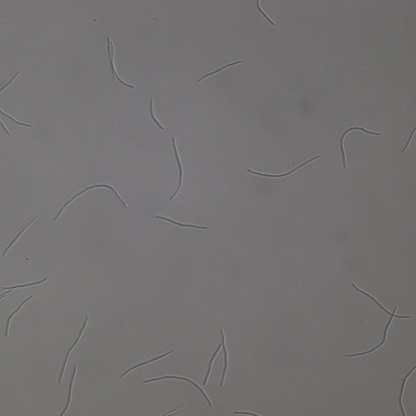Sensitive: (53, 182, 128, 220), (346, 307, 398, 358), (143, 374, 212, 407), (353, 285, 411, 319), (339, 125, 381, 169), (247, 154, 318, 180), (60, 316, 87, 381), (203, 328, 229, 385), (106, 37, 134, 88), (121, 349, 173, 376), (2, 217, 36, 256), (6, 295, 34, 333), (168, 135, 184, 199), (198, 59, 243, 81), (396, 367, 416, 415), (156, 216, 207, 233), (59, 366, 75, 416), (2, 278, 47, 292), (147, 98, 164, 129), (256, 1, 276, 25)
